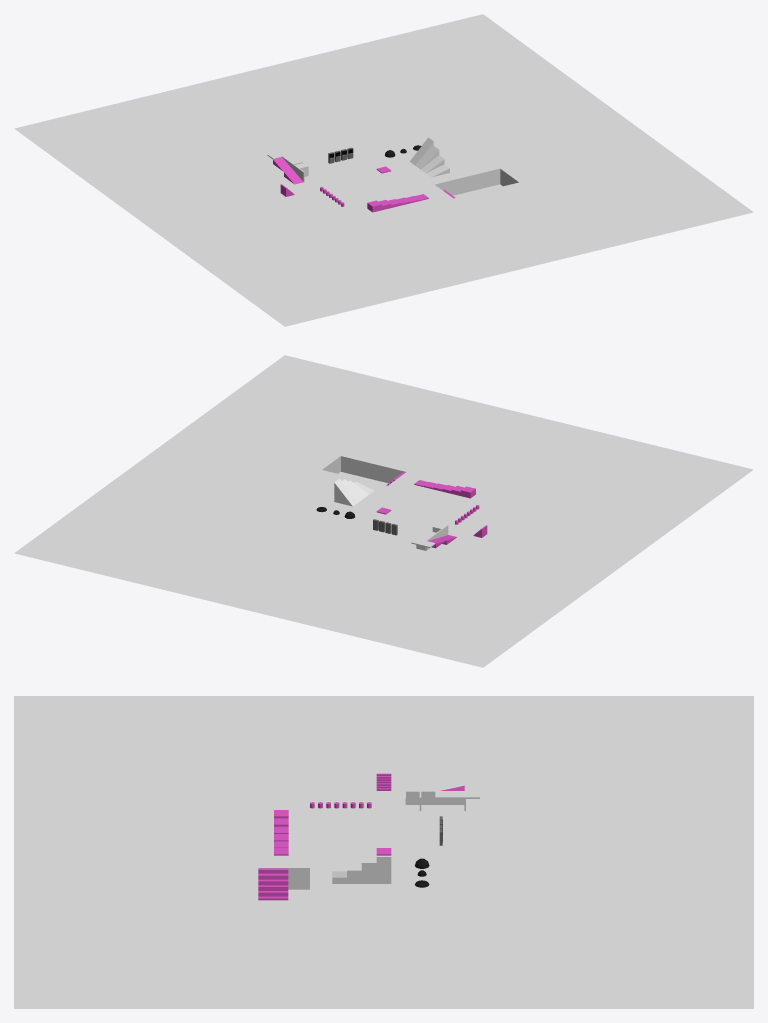
3 renders of one model, top to bottom at view 1: azimuth 30°, elevation 25°; view 2: azimuth 150°, elevation 25°; view 3: azimuth 270°, elevation 25°, orthographic. The views are drawn at different scales.
Visible parts, largest first — view 1: Plane.001_Baked; view 2: Plane.001_Baked; view 3: Plane.001_Baked, Cube.027_Baked.
Part boxes in pixels (box(x1,y1,x2,y2)): Plane.001_Baked: box(14, 14, 753, 326); Plane.001_Baked: box(14, 355, 753, 667); Plane.001_Baked: box(14, 696, 753, 1008); Cube.027_Baked: box(258, 868, 288, 900).
Size of the model in its own units: 10000 by 809 by 10000.
34 materials, 34 textured.
